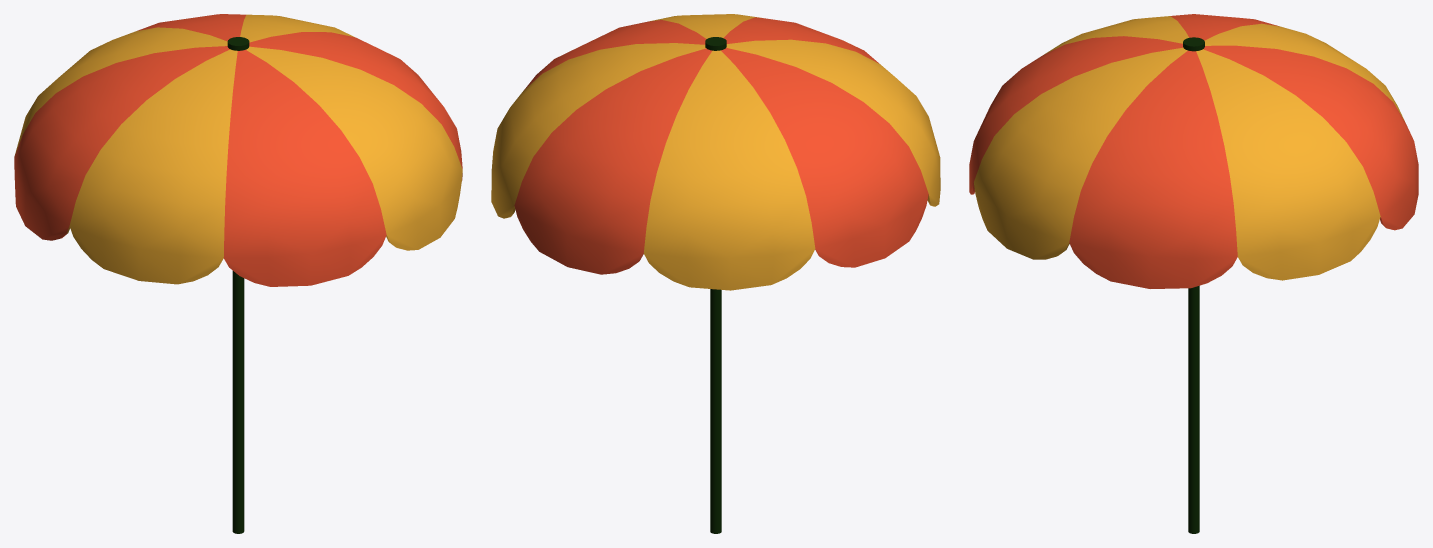
File: Parasol.fbx
The picture shows the model from 3 angles, left to right: view 1: azimuth 30°, elevation 25°; view 2: azimuth 150°, elevation 25°; view 3: azimuth 270°, elevation 25°; orthographic projection.
Visible parts, largest first — view 1: Parasol; view 2: Parasol; view 3: Parasol.
Boxes of the visible parts, <box> form: Parasol: <box>14,14,462,533</box>; Parasol: <box>491,14,940,533</box>; Parasol: <box>969,14,1418,533</box>.
Bounding box in the file's own units: 200 × 240 × 200.
